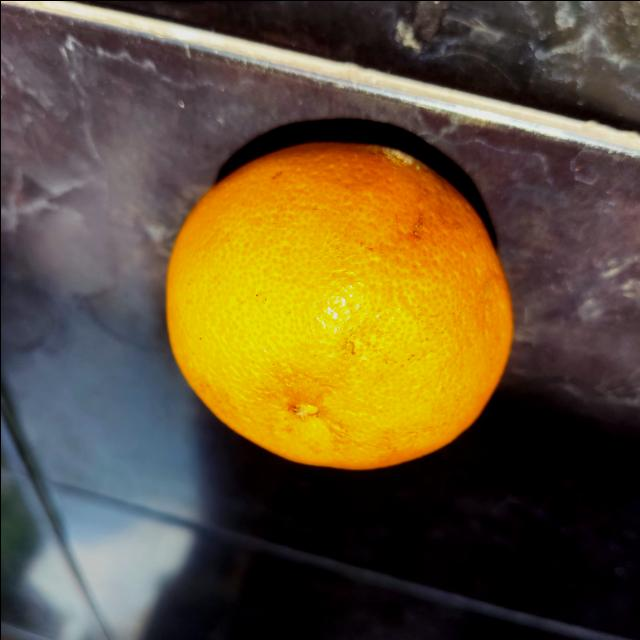orange: (162, 140, 512, 474)
